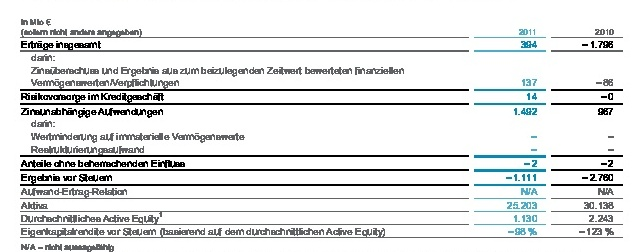table: (0, 0, 642, 252)
